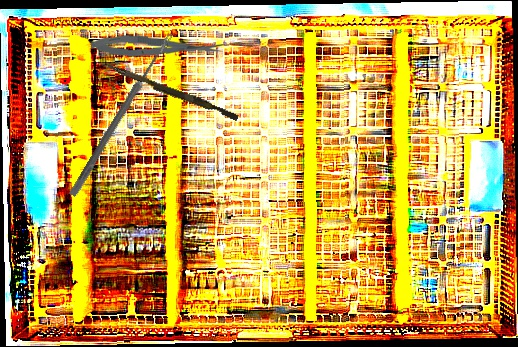Micro Scissor: (90, 32, 224, 63)
Pusher: (97, 60, 241, 122)
Surgical Spoon: (68, 31, 175, 198)
